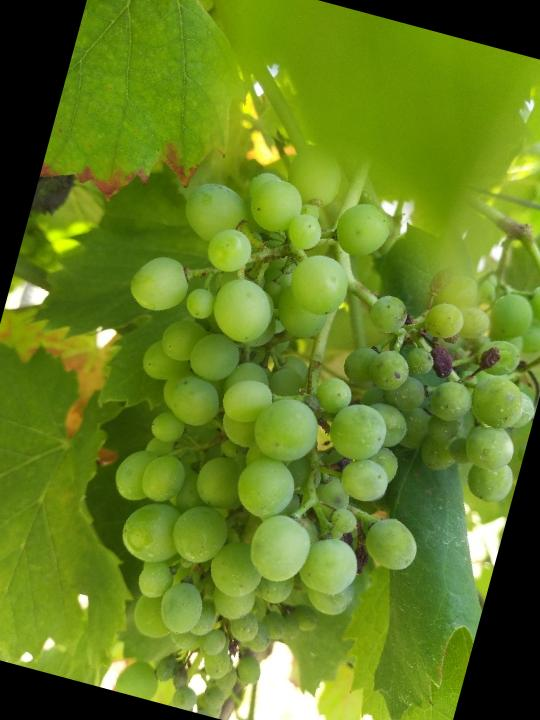grape: (35, 98, 540, 720)
